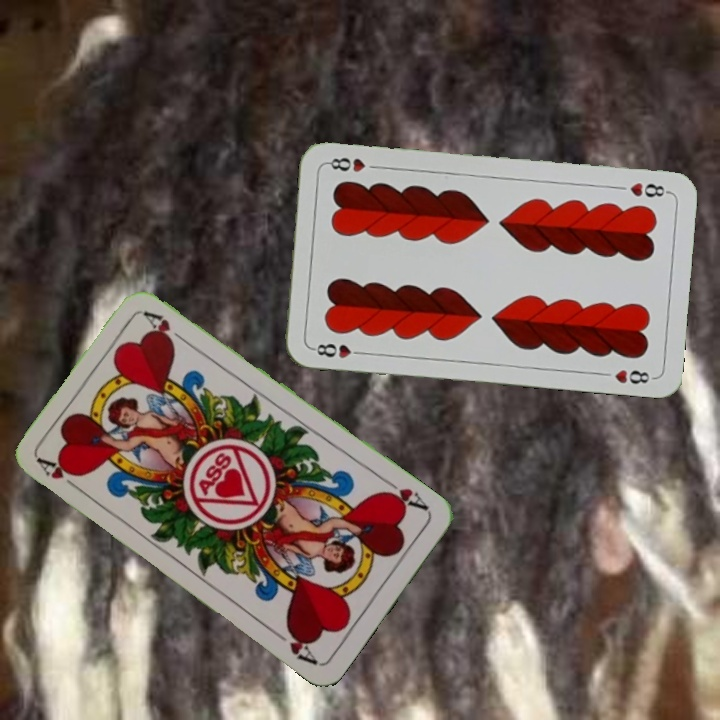H8: (308, 339, 367, 361), (626, 178, 672, 200)
HA: (34, 454, 86, 496), (378, 475, 432, 514)
